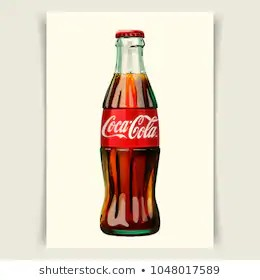coke-glass-bottle: (96, 28, 167, 238)
